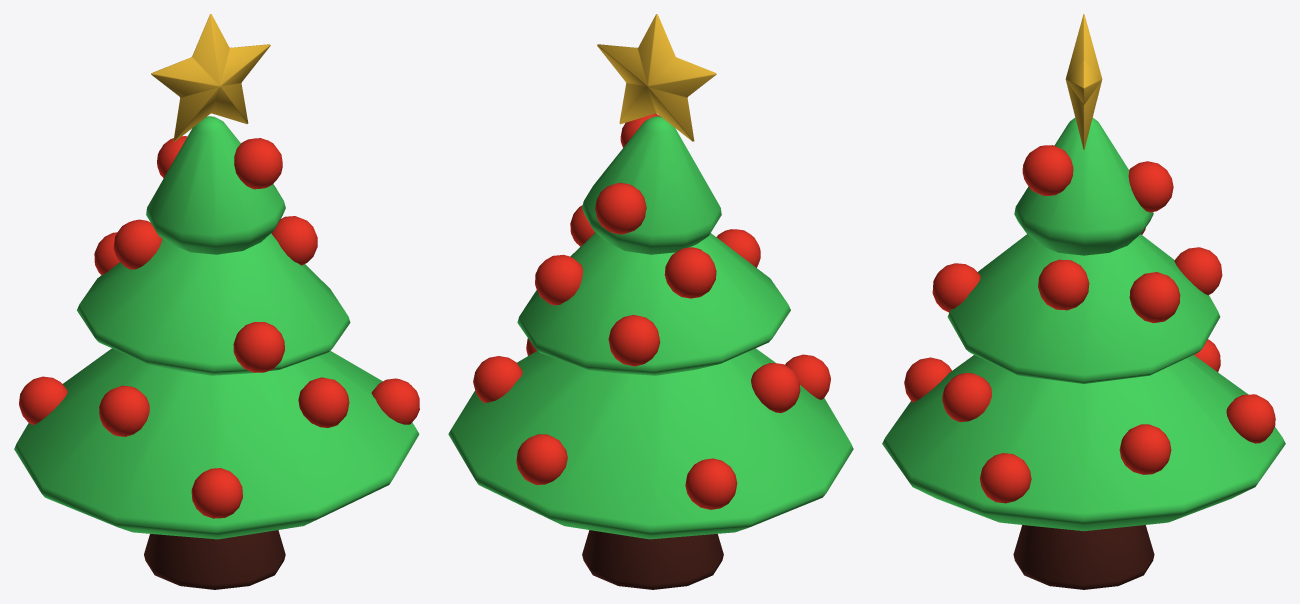
The model's file is natal002.glb.
The picture shows the model from 3 angles, left to right: view 1: azimuth 30°, elevation 25°; view 2: azimuth 150°, elevation 25°; view 3: azimuth 270°, elevation 25°; orthographic projection.
Visible parts, largest first — view 1: Tree, Balls, Star; view 2: Tree, Balls, Star; view 3: Tree, Balls, Star.
Part boxes in pixels (x1,y1,x2,y2): Tree: (14, 116, 419, 589); Balls: (19, 136, 419, 518); Star: (151, 14, 270, 141); Tree: (448, 116, 853, 589); Balls: (473, 113, 830, 509); Star: (597, 14, 716, 141); Tree: (882, 118, 1285, 589); Balls: (904, 145, 1275, 503); Star: (1065, 14, 1102, 149).
Bounding box in the file's own units: 1.11 × 1.66 × 1.11.
